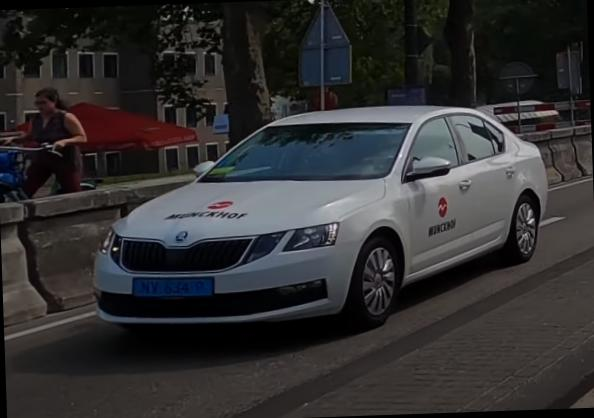license-plate: (132, 277, 215, 297)
